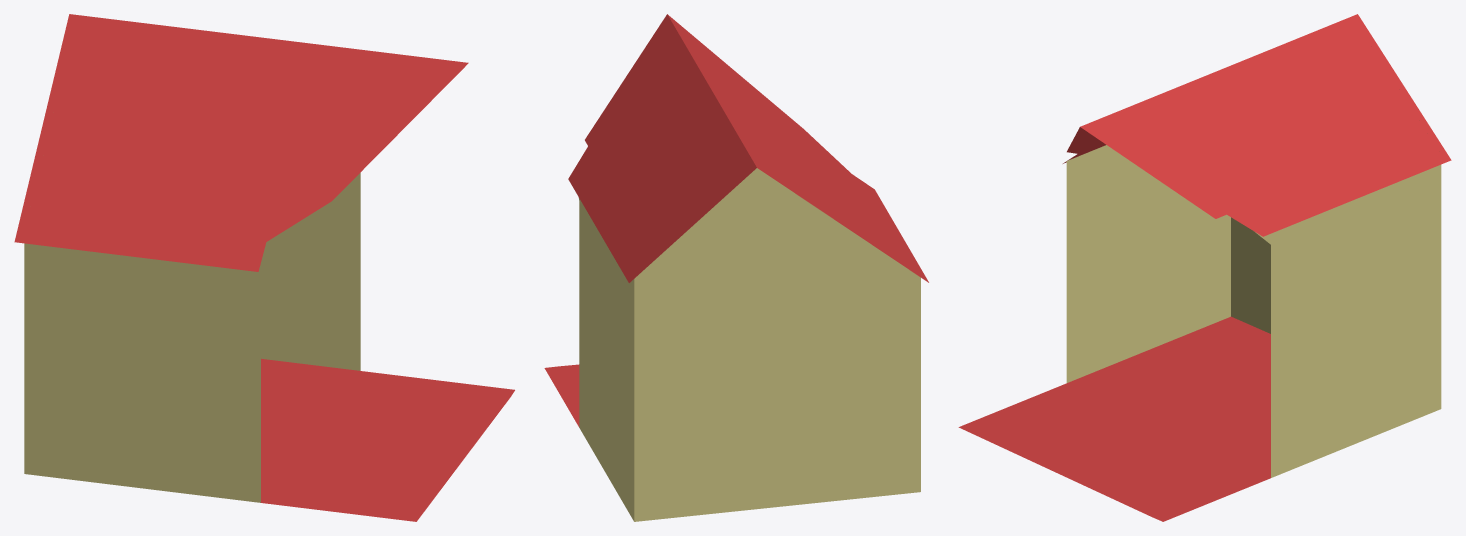
The picture shows the model from 3 angles, left to right: view 1: azimuth 30°, elevation 25°; view 2: azimuth 150°, elevation 25°; view 3: azimuth 270°, elevation 25°; orthographic projection. The views are drawn at different scales.
Size of the model in its own units: 17.05 by 16.94 by 13.41.
